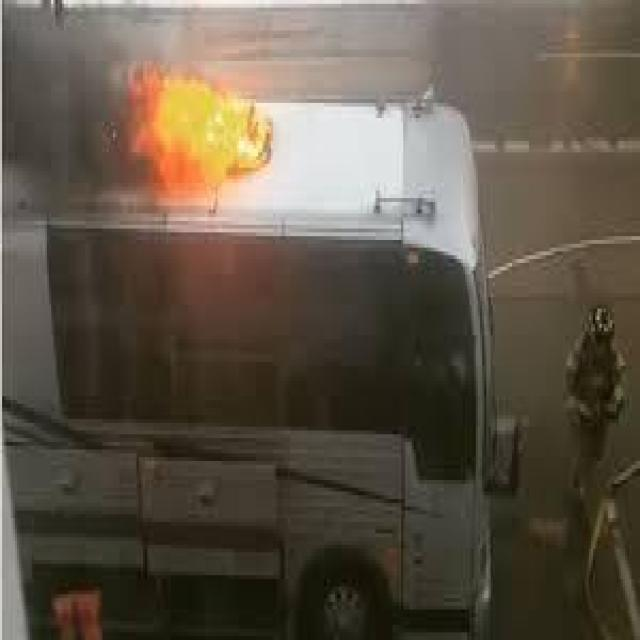Fire: (111, 61, 282, 232)
Smoke: (2, 1, 170, 208)
